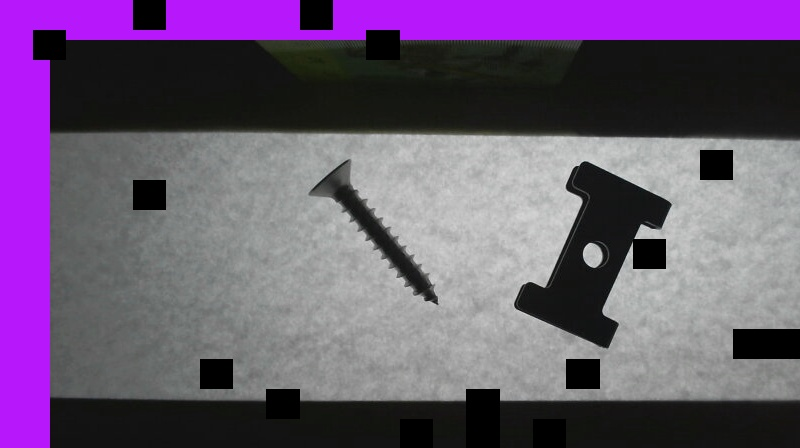O002: (511, 161, 675, 350)
S001: (307, 155, 444, 308)
